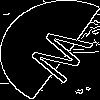W: (24, 25, 100, 90)
